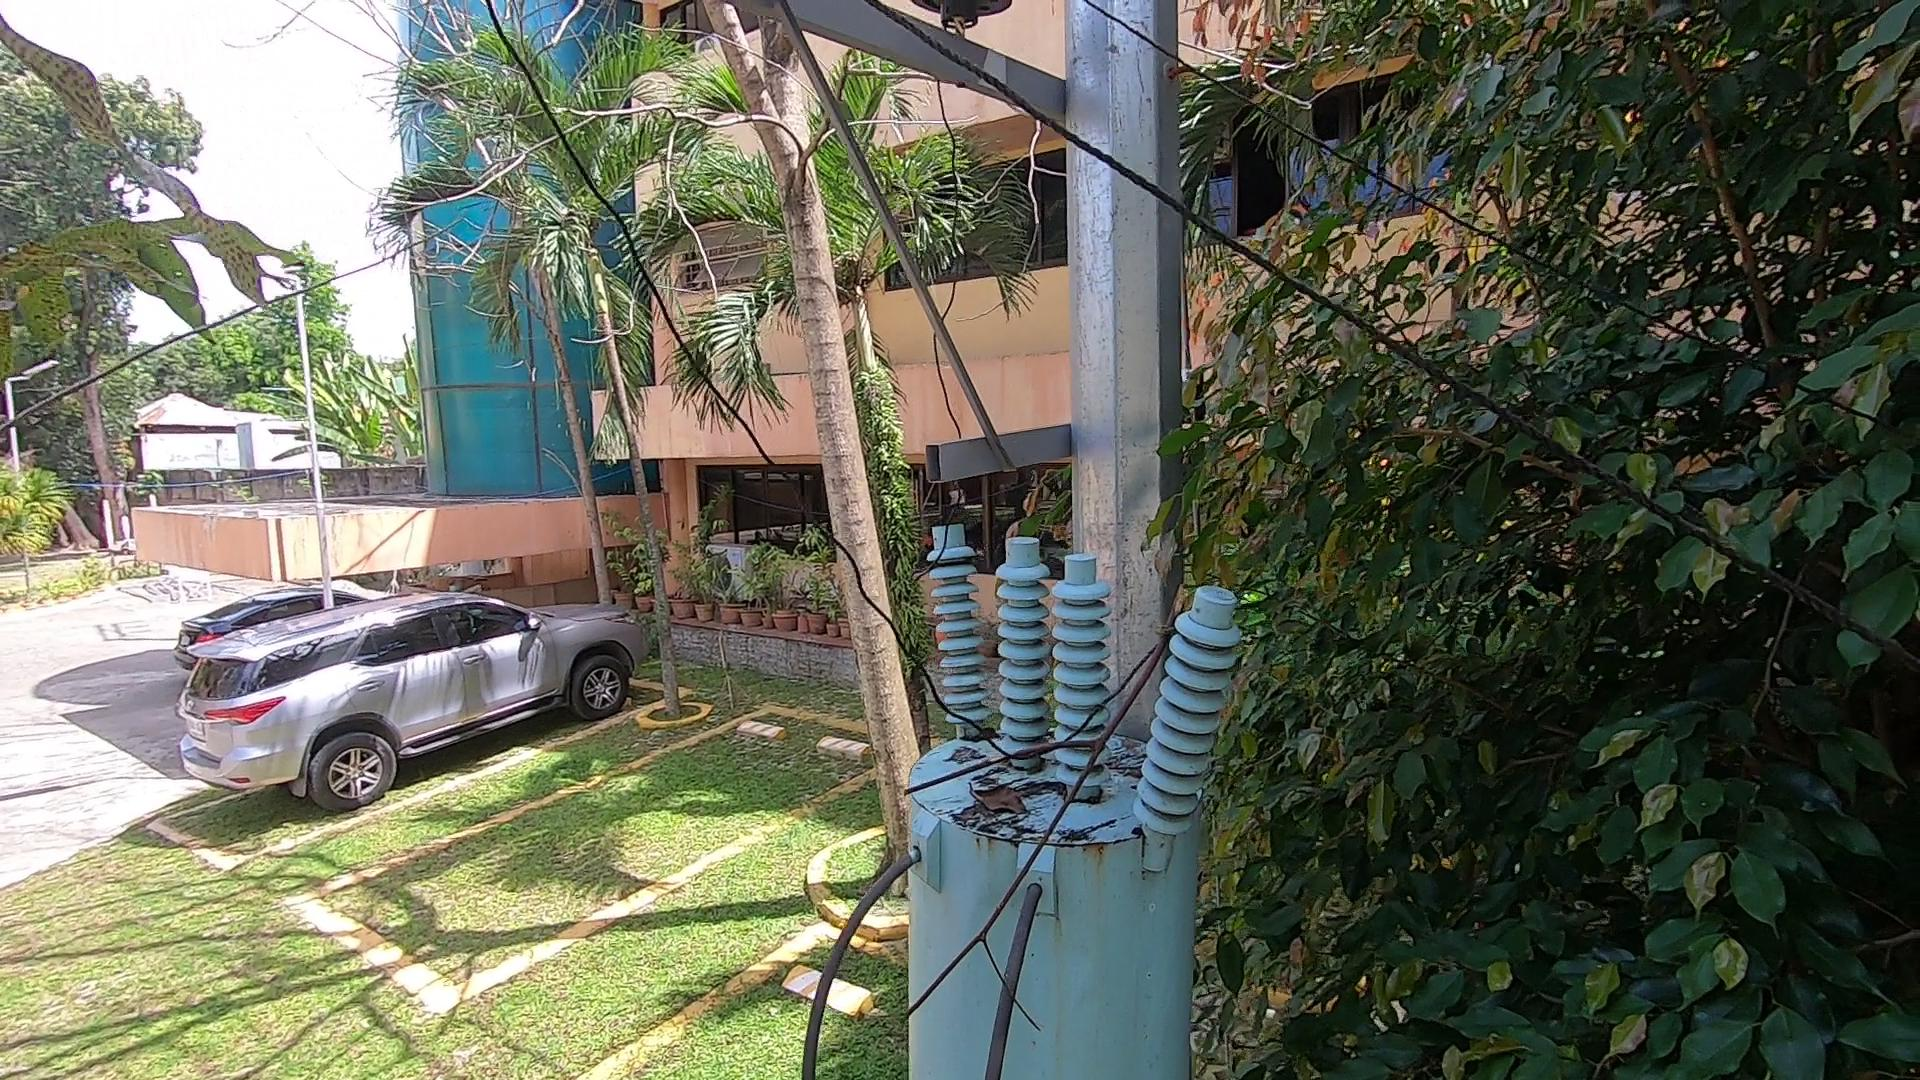leaf: (961, 762, 1036, 828)
tree branch: (865, 621, 1204, 1034)
